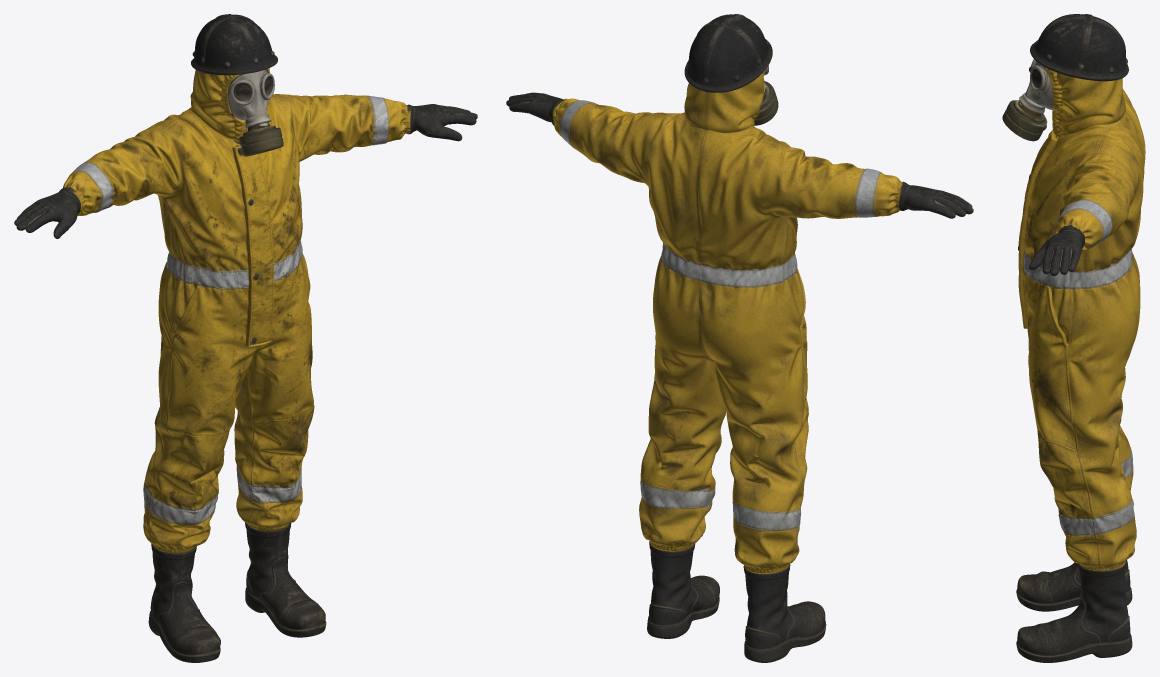
The model's file is GasService.fbx.
3 views of the same model, side by side, from view 1: azimuth 30°, elevation 25°; view 2: azimuth 150°, elevation 25°; view 3: azimuth 270°, elevation 25° (orthographic).
Visible parts, largest first — view 1: GasService; view 2: GasService; view 3: GasService.
Part boxes in pixels (<box>): GasService: <box>14,14,477,662</box>; GasService: <box>506,14,973,662</box>; GasService: <box>1002,14,1145,662</box>.
Bounding box in the file's own units: 1.5 × 1.9 × 0.4017.
Materials: 1 (1 with a texture image).
